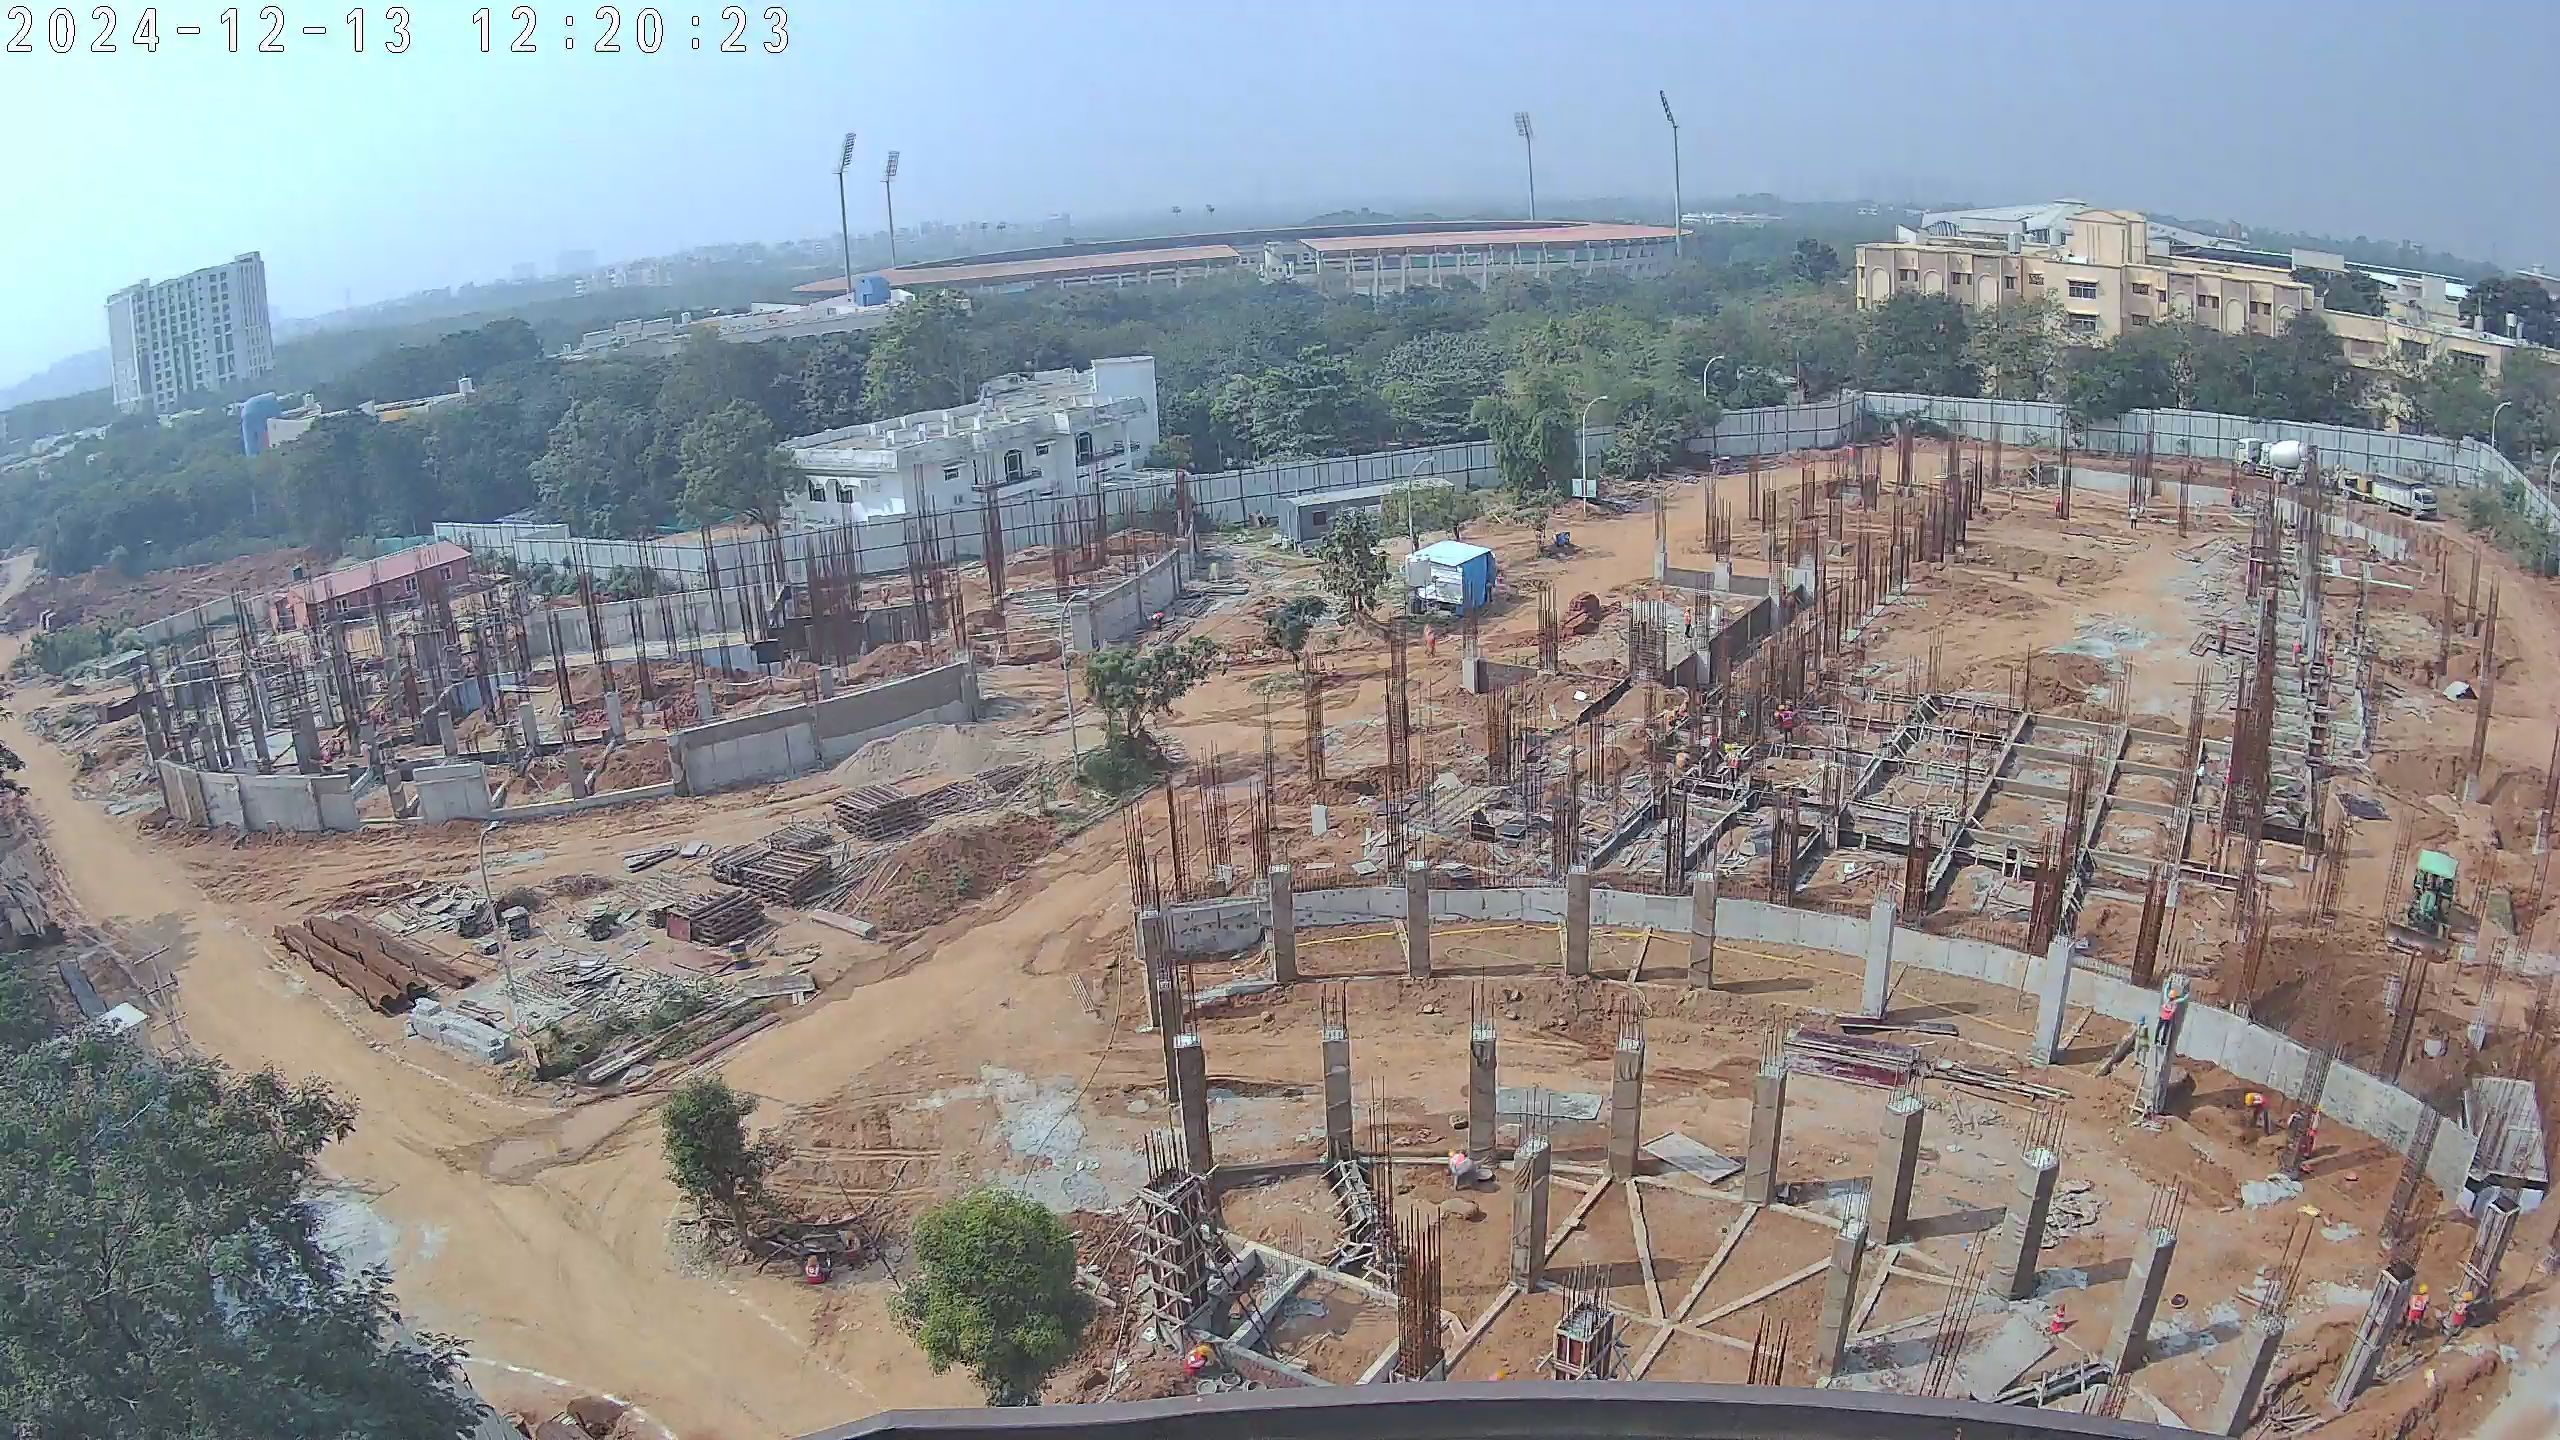bulldozer: (2378, 847, 2468, 967)
truck: (2337, 466, 2439, 527), (2233, 433, 2318, 491)
worker: (2437, 1296, 2473, 1356), (1179, 1338, 1223, 1382), (2150, 989, 2181, 1049), (2403, 1274, 2431, 1336), (2243, 1087, 2274, 1141), (834, 1226, 872, 1267), (2300, 1096, 2322, 1159), (801, 1250, 836, 1289), (1444, 1146, 1472, 1183), (1722, 739, 1744, 786), (1775, 700, 1796, 747), (1421, 622, 1442, 661), (2322, 646, 2343, 684), (1679, 601, 1695, 639), (2289, 633, 2305, 668), (1663, 706, 1680, 737), (2127, 500, 2143, 532), (2049, 491, 2062, 525), (1676, 700, 1692, 724)
